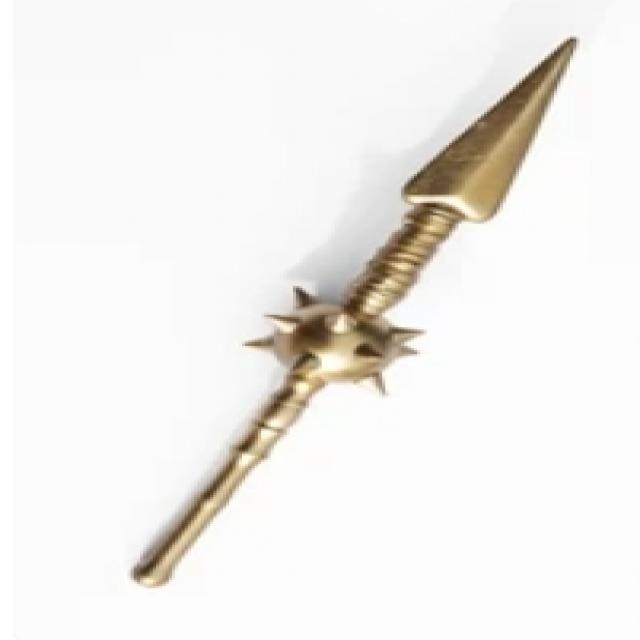spear: (110, 25, 594, 601)
